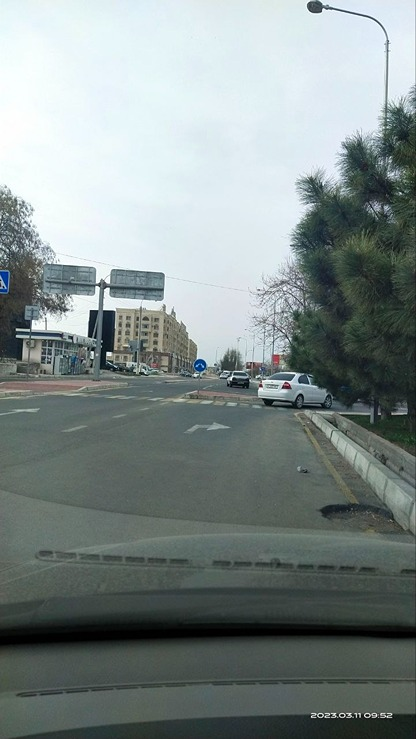car: (256, 373, 321, 410), (227, 368, 252, 389)
tree: (289, 86, 416, 410)
